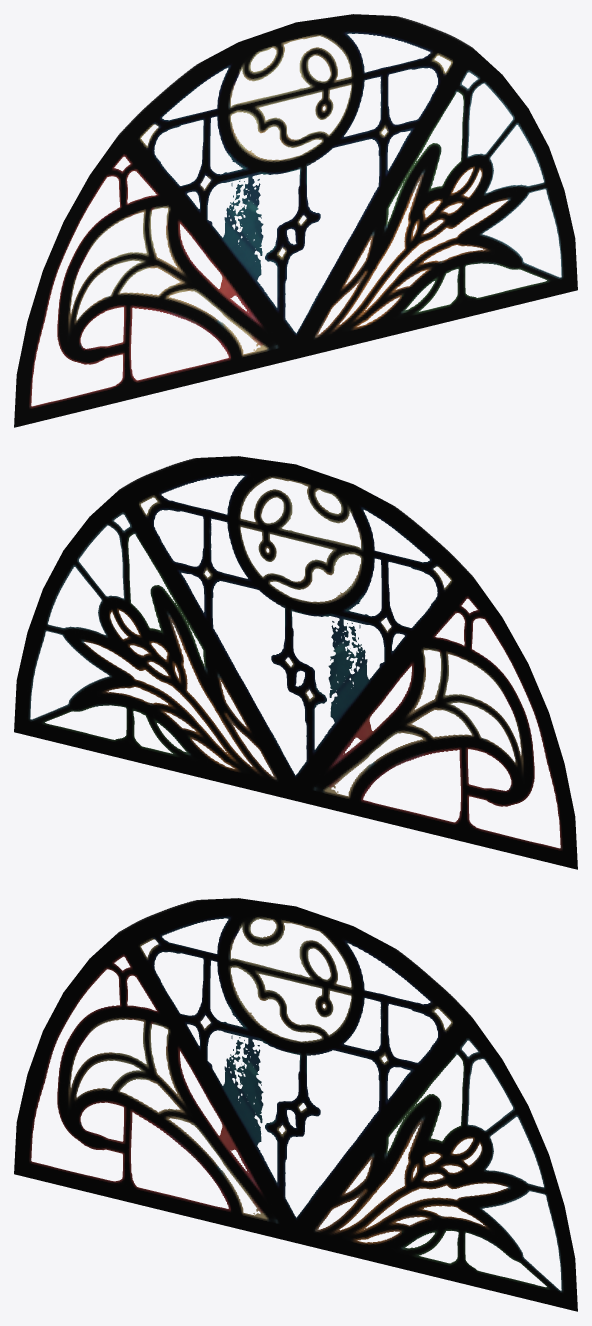
Rendered from SM_Window_HalfPane_Moon.fbx.
3 renders of one model, top to bottom at view 1: azimuth 30°, elevation 25°; view 2: azimuth 150°, elevation 25°; view 3: azimuth 330°, elevation 25°, orthographic.
Parts seen in each view (by area): view 1: SM_Window_HalfPane_Moon; view 2: SM_Window_HalfPane_Moon; view 3: SM_Window_HalfPane_Moon.
Boxes of the visible parts, x1,y1,x2,y2 form: SM_Window_HalfPane_Moon: (14, 14, 577, 427); SM_Window_HalfPane_Moon: (14, 456, 577, 869); SM_Window_HalfPane_Moon: (14, 898, 577, 1311).
Bounding box in the file's own units: 108 × 61.85 × 1.73e-05.
